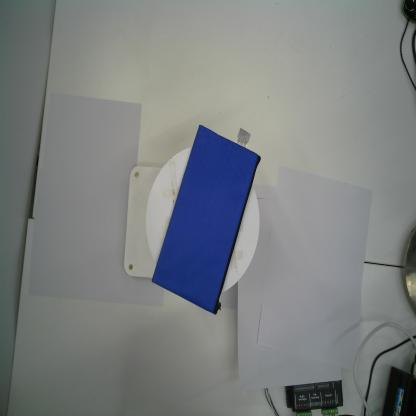Stationery: (151, 124, 262, 315)
